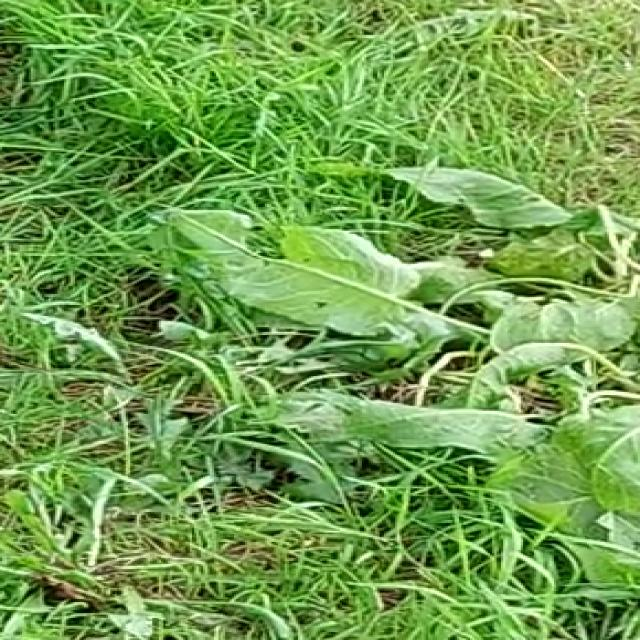organic waste: (176, 128, 640, 498)
